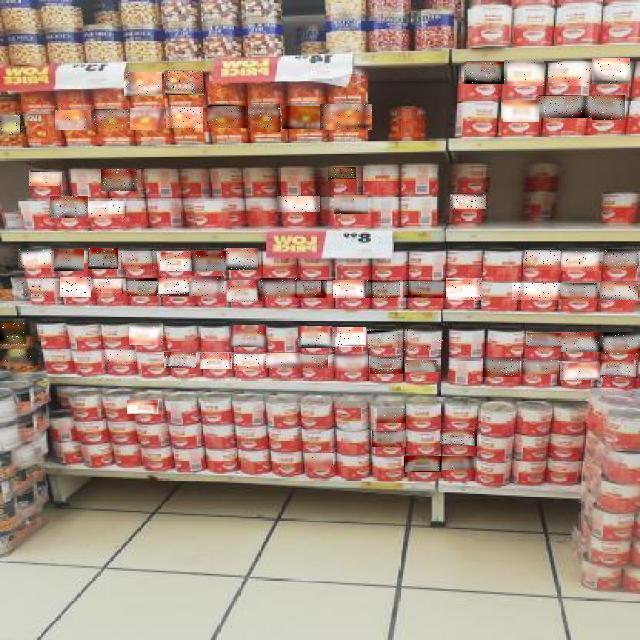Beans: (320, 104, 372, 130), (537, 96, 593, 118), (504, 60, 544, 86), (548, 63, 592, 86), (592, 58, 630, 84), (164, 71, 204, 95), (124, 73, 162, 97), (248, 105, 280, 133), (465, 62, 505, 84), (208, 106, 248, 128), (562, 249, 602, 271), (404, 329, 444, 351), (283, 106, 321, 129), (562, 333, 604, 353), (50, 197, 88, 219), (592, 95, 625, 120), (601, 333, 640, 354), (512, 283, 560, 300), (166, 108, 203, 130), (523, 250, 563, 270), (503, 100, 539, 122), (101, 169, 137, 191), (446, 278, 482, 300), (403, 280, 446, 298), (231, 325, 266, 347), (88, 199, 126, 219), (260, 278, 300, 297), (597, 282, 639, 300), (130, 108, 164, 130), (224, 248, 258, 270), (228, 280, 262, 302), (129, 323, 163, 345), (299, 326, 333, 348), (332, 328, 366, 350), (483, 357, 520, 377), (55, 110, 91, 130), (599, 360, 638, 378), (277, 196, 320, 212), (92, 110, 130, 128), (122, 249, 156, 269), (192, 251, 226, 271), (190, 276, 224, 296), (560, 363, 600, 380), (558, 283, 600, 299), (54, 249, 84, 271), (334, 280, 370, 298), (334, 195, 368, 214), (605, 249, 639, 268), (159, 278, 193, 297), (20, 278, 54, 297), (0, 349, 38, 366), (160, 251, 192, 271), (88, 248, 118, 269), (18, 249, 51, 268), (60, 277, 91, 297), (296, 280, 330, 298), (366, 280, 400, 298), (368, 330, 402, 348), (440, 431, 478, 447), (404, 456, 442, 472), (126, 278, 159, 296), (334, 354, 368, 371), (370, 357, 404, 374), (0, 324, 26, 346), (372, 431, 406, 447), (527, 334, 561, 350), (266, 354, 300, 370), (234, 354, 266, 371), (451, 194, 487, 209), (164, 352, 196, 368), (200, 353, 232, 369), (523, 360, 559, 374), (128, 400, 162, 414), (442, 456, 476, 470), (102, 350, 136, 364), (93, 280, 122, 296), (29, 172, 62, 186), (305, 454, 333, 470), (377, 408, 406, 423), (406, 360, 440, 372), (329, 168, 357, 182), (300, 356, 328, 370), (0, 115, 20, 134)
